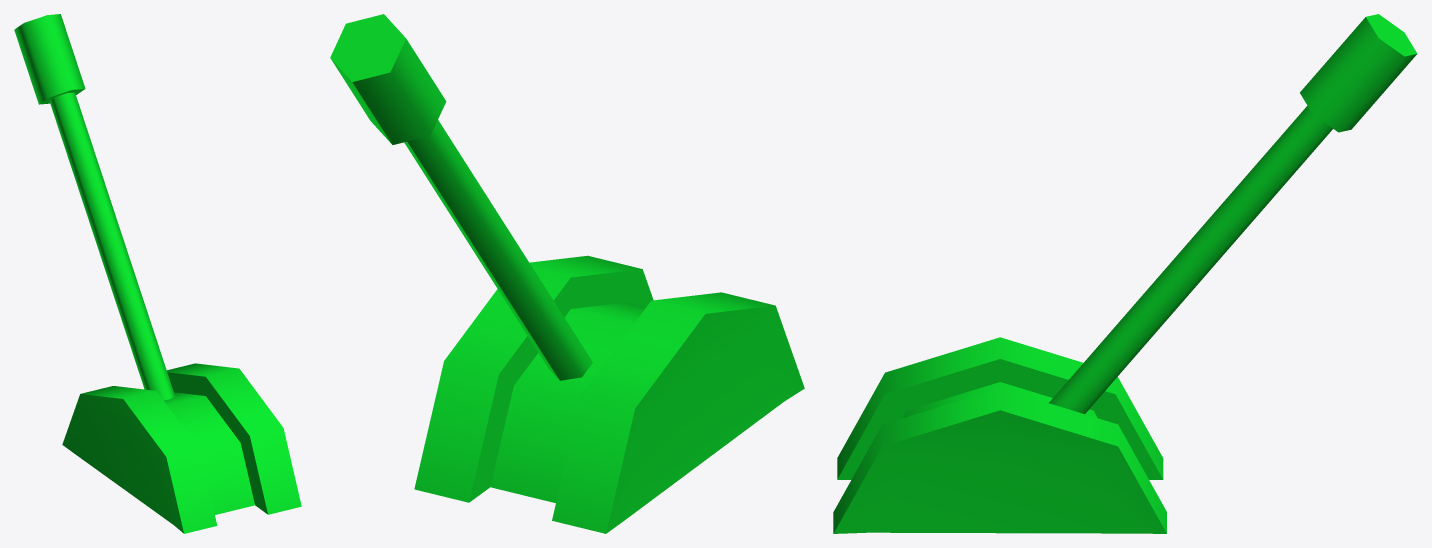
Rendered from AlavancaGrandeVagaoFinal.fbx.
The picture shows the model from 3 angles, left to right: view 1: azimuth 30°, elevation 25°; view 2: azimuth 150°, elevation 25°; view 3: azimuth 270°, elevation 25°; orthographic projection. The views are drawn at different scales.
Parts seen in each view (by area): view 1: Circle.017, Circle.011; view 2: Circle.017, Circle.011; view 3: Circle.017, Circle.011.
Part boxes in pixels (x1,y1,x2,y2): Circle.017: (62,363,301,533); Circle.011: (14,14,175,400); Circle.017: (414,255,804,533); Circle.011: (330,14,592,380); Circle.017: (833,337,1166,533); Circle.011: (1049,14,1417,414).
Bounding box in the file's own units: 698 × 2063 × 2271.
